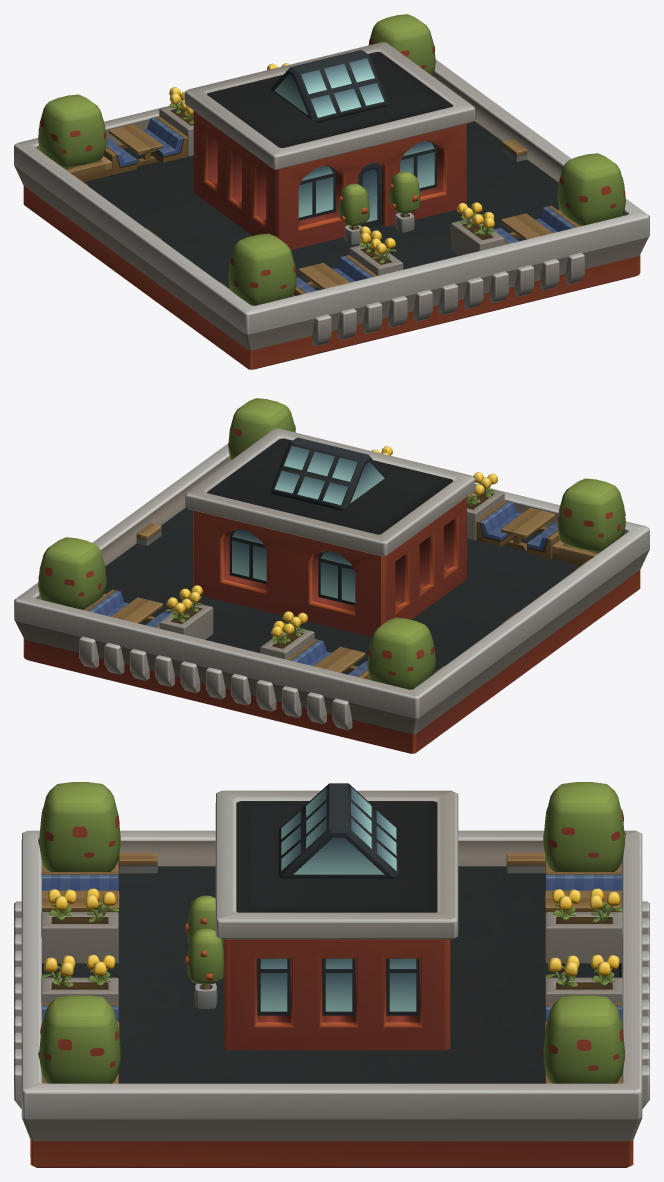
The model's file is office_building_type1_roof_red_deco.fbx.
The picture shows the model from 3 angles, top to bottom: view 1: azimuth 30°, elevation 25°; view 2: azimuth 150°, elevation 25°; view 3: azimuth 270°, elevation 25°; orthographic projection. The views are drawn at different scales.
Parts seen in each view (by area): view 1: office_building_type1_roof_red_deco, door_office_building_type1_roof_red_deco; view 2: office_building_type1_roof_red_deco; view 3: office_building_type1_roof_red_deco.
Part boxes in pixels (box(x1,y1,x2,y2)): office_building_type1_roof_red_deco: box(14, 14, 649, 369); door_office_building_type1_roof_red_deco: box(358, 162, 382, 227); office_building_type1_roof_red_deco: box(14, 398, 649, 753); office_building_type1_roof_red_deco: box(14, 782, 649, 1167).
Bounding box in the file's own units: 1600 × 671 × 1640.
